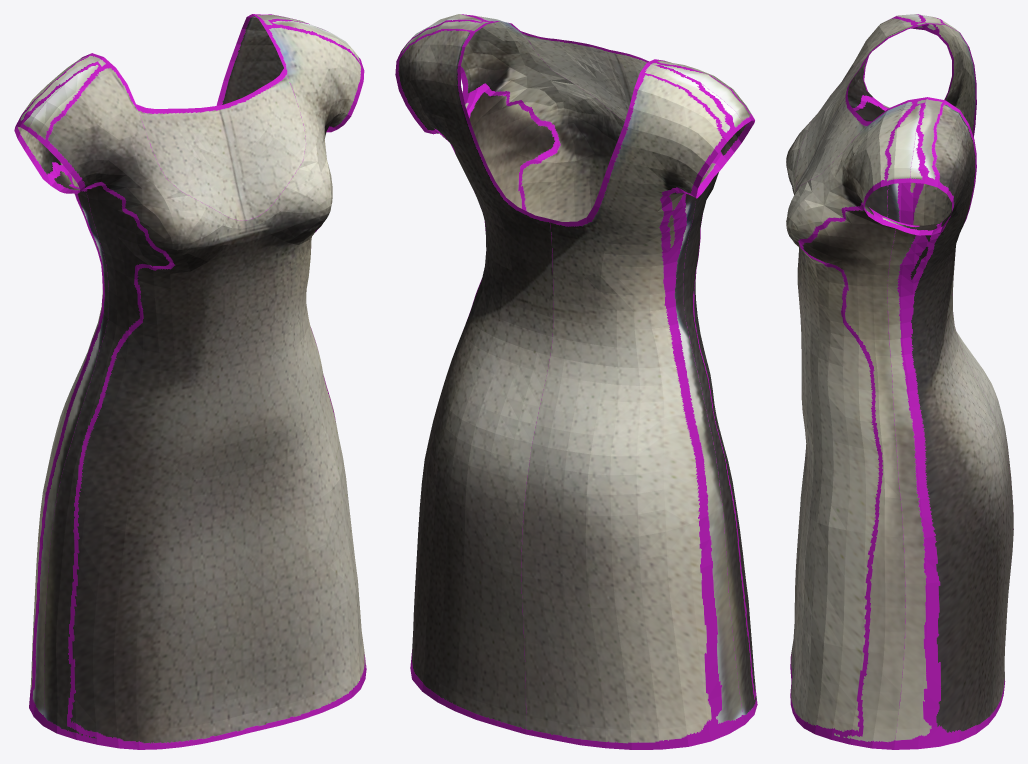
3 renders of one model, left to right at view 1: azimuth 30°, elevation 25°; view 2: azimuth 150°, elevation 25°; view 3: azimuth 270°, elevation 25°, orthographic. The views are drawn at different scales.
Bounding box in the file's own units: 0.5027 × 0.9451 × 0.314.
1 material, 1 textured.
